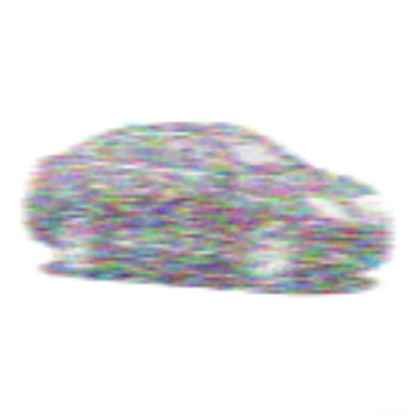Vehicle: (27, 124, 392, 290)
